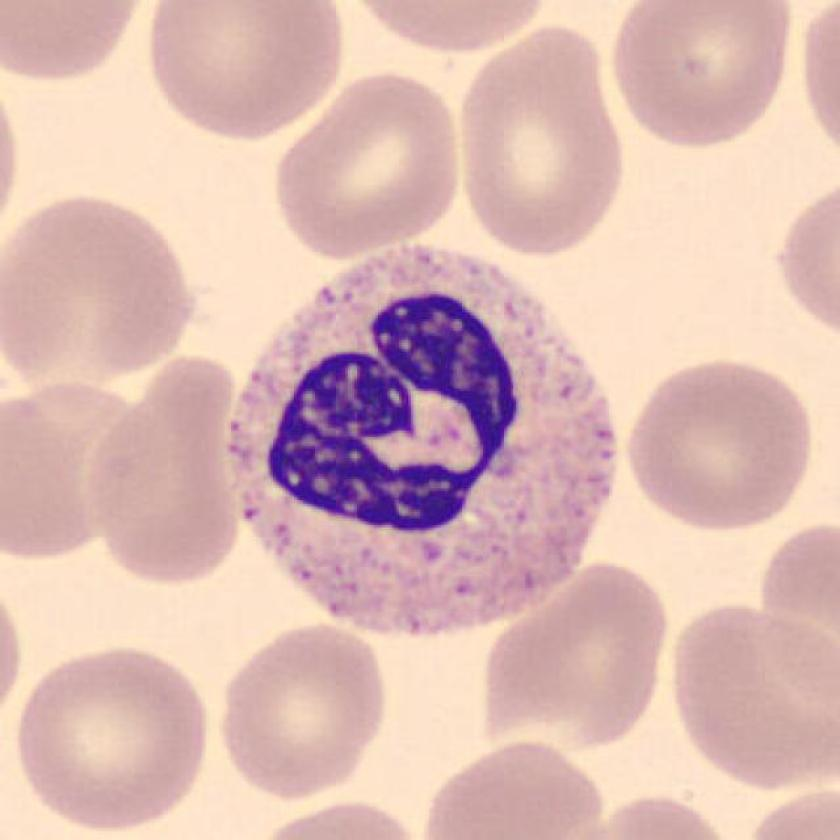neutrophil: (227, 245, 617, 636)
